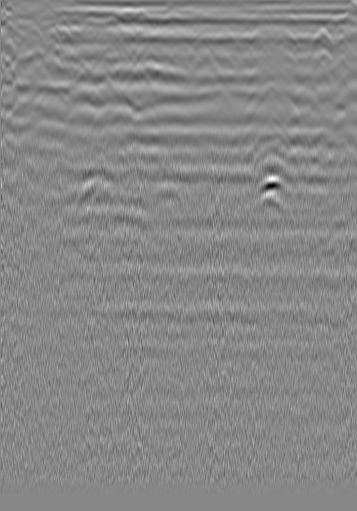가스: (255, 175, 289, 199)
상수: (0, 20, 20, 40)
오수: (312, 27, 332, 47)
우수: (157, 19, 177, 39)
